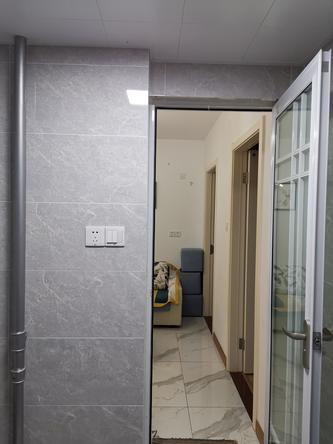switch: (107, 229, 125, 243)
